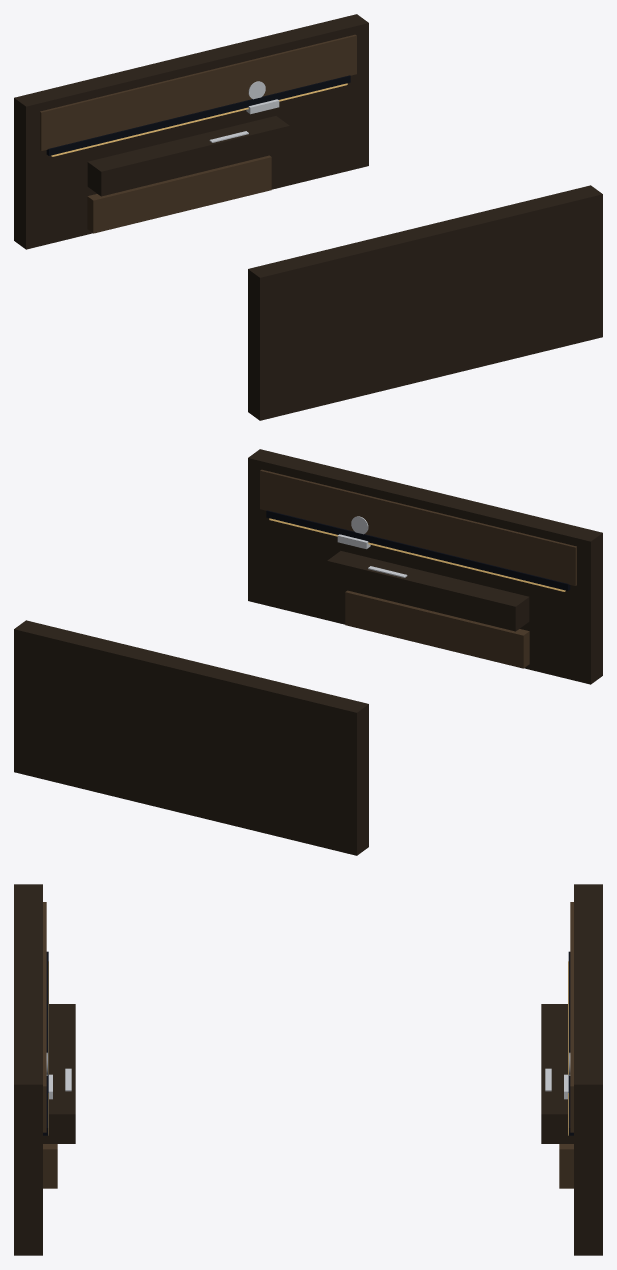
The model's file is door_cards_executive.glb.
The picture shows the model from 3 angles, top to bottom: view 1: azimuth 30°, elevation 25°; view 2: azimuth 150°, elevation 25°; view 3: azimuth 270°, elevation 25°; orthographic projection. The views are drawn at different scales.
Visible parts, largest first — view 1: DoorCard_Left, DoorCard_Right; view 2: DoorCard_Right, DoorCard_Left; view 3: DoorCard_Right, DoorCard_Left.
Boxes of the visible parts, x1,y1,x2,y2 form: DoorCard_Left: (14,14,368,249); DoorCard_Right: (248,185,602,420); DoorCard_Right: (248,449,602,684); DoorCard_Left: (14,620,368,855); DoorCard_Right: (14,884,75,1255); DoorCard_Left: (541,884,602,1255).
Size of the model in its own units: 1.3 by 0.52 by 1.62.
